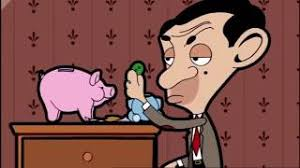mrbean: (124, 1, 271, 168)
